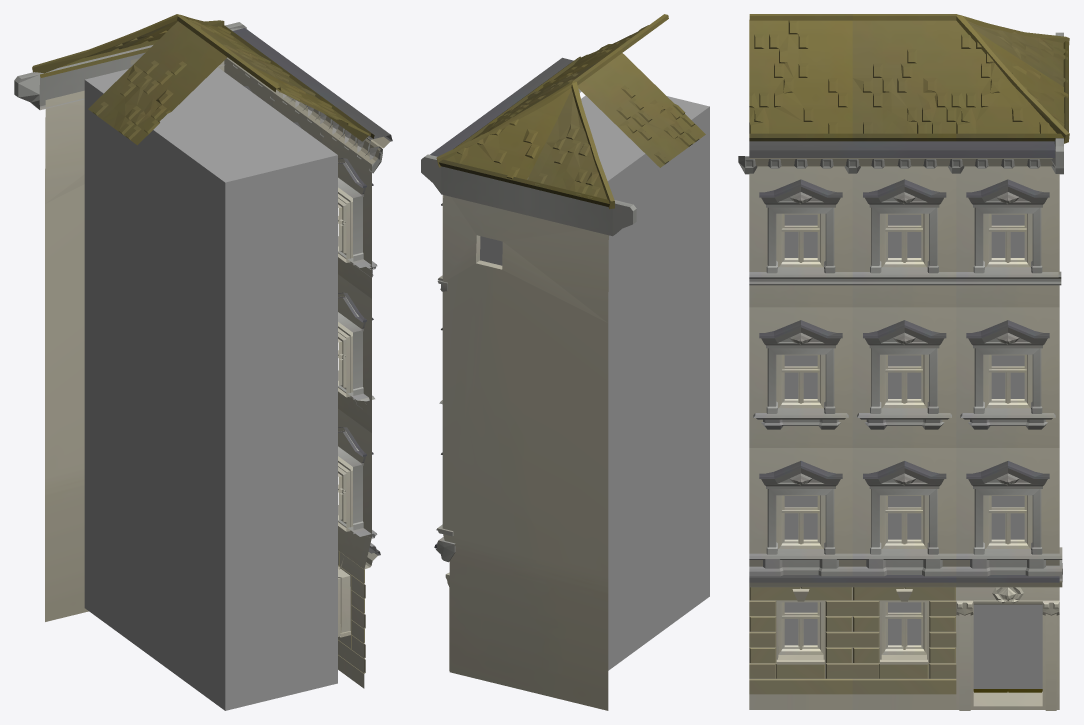
Rendered from building_04.fbx.
The picture shows the model from 3 angles, left to right: view 1: azimuth 30°, elevation 25°; view 2: azimuth 150°, elevation 25°; view 3: azimuth 270°, elevation 25°; orthographic projection. The views are drawn at different scales.
Visible parts, largest first — view 1: G_building_03_group85_polySurface457; view 2: G_building_03_group85_polySurface457; view 3: G_building_03_group85_polySurface457.
Boxes of the visible parts, <box> form: G_building_03_group85_polySurface457: <box>14,14,392,710</box>; G_building_03_group85_polySurface457: <box>421,14,709,710</box>; G_building_03_group85_polySurface457: <box>738,14,1069,710</box>.
Bounding box in the file's own units: 801 × 2082 × 960.
Materials: 2 (1 with a texture image).
